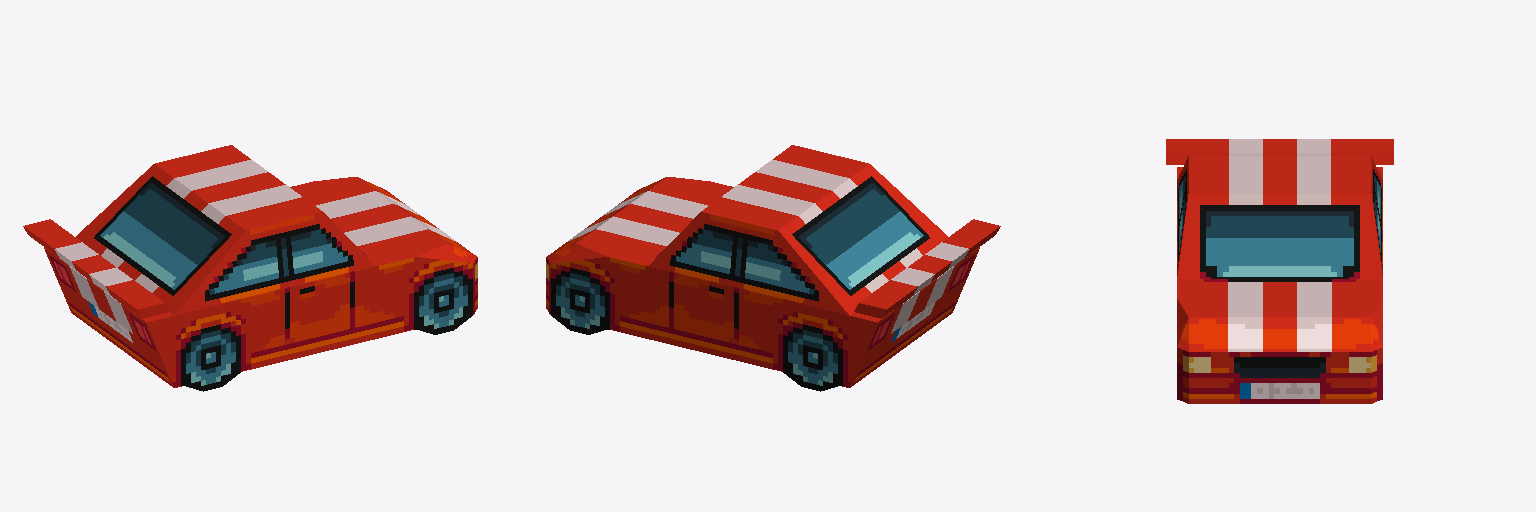
3 renders of one model, left to right at view 1: azimuth 30°, elevation 25°; view 2: azimuth 150°, elevation 25°; view 3: azimuth 270°, elevation 25°, orthographic.
Parts seen in each view (by area): view 1: cuboid; view 2: cuboid; view 3: cuboid.
Part boxes in pixels (bbox=[...]): cuboid: bbox=[23, 145, 477, 391]; cuboid: bbox=[546, 145, 1000, 391]; cuboid: bbox=[1166, 139, 1393, 403].
Size of the model in its own units: 3.33 by 1.31 by 1.88.
Materials: 1 (1 with a texture image).